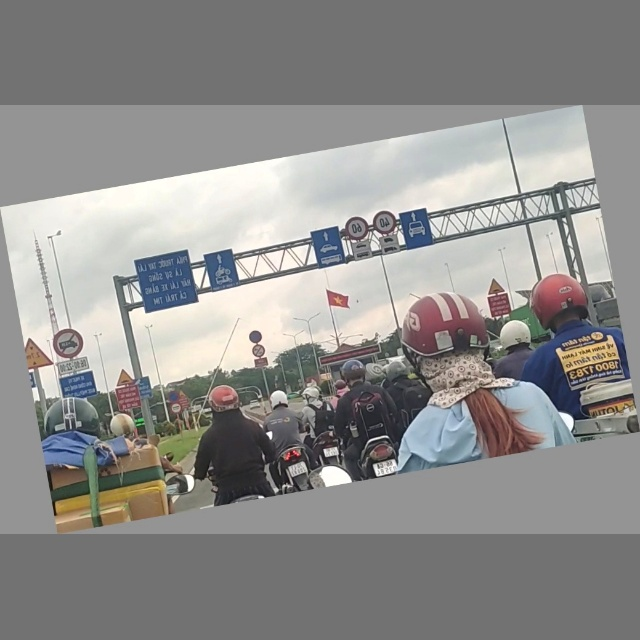Camera: (135, 377, 153, 402)
P.106a*Xe tai: (50, 327, 86, 362)
P.111: (251, 345, 266, 360)
P.127*40: (371, 210, 399, 237)
P.127*60: (344, 216, 370, 243)
P.129: (170, 402, 183, 415)
P.130: (248, 330, 263, 345)
P.131a: (167, 392, 180, 405)
W.221b: (483, 277, 507, 297), (113, 368, 134, 388), (178, 389, 187, 400)
W.239b*: (23, 336, 53, 372)
